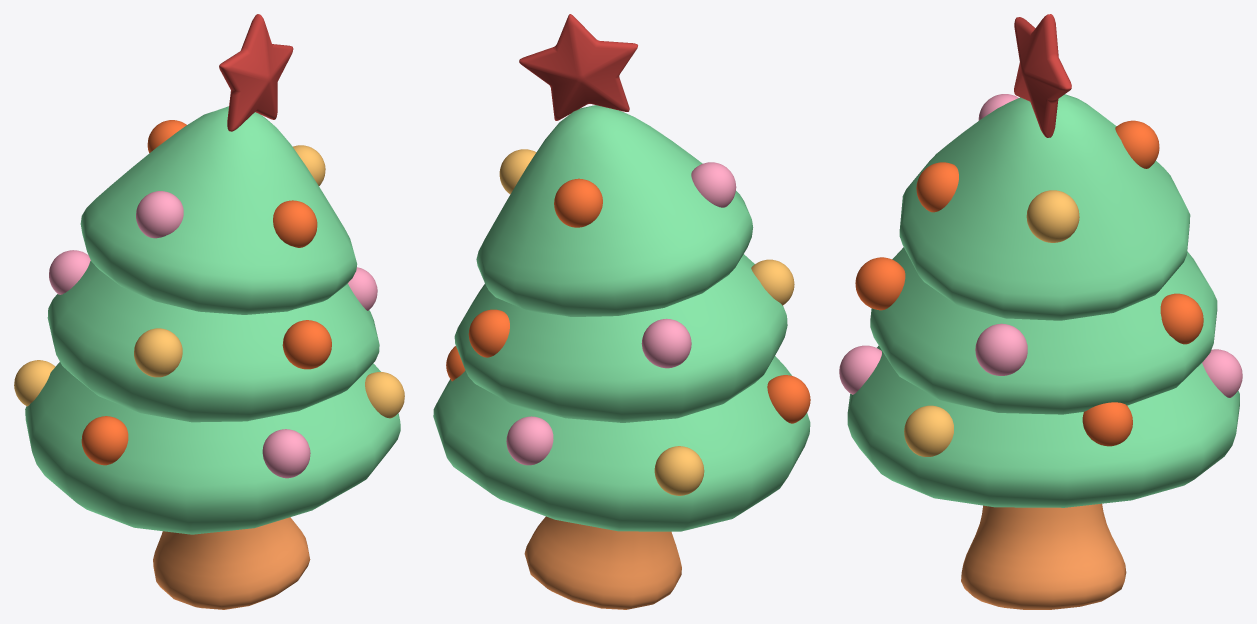
The model's file is tree_2.glb.
3 renders of one model, left to right at view 1: azimuth 30°, elevation 25°; view 2: azimuth 150°, elevation 25°; view 3: azimuth 270°, elevation 25°, orthographic. The views are drawn at different scales.
Parts seen in each view (by area): view 1: Cube, Cube.002, Cube.001, Cube.003, Circle, Sphere.015, Sphere.006, Sphere.008, Sphere.007, Sphere, Sphere.013, Sphere.014 (+5 smaller); view 2: Cube, Cube.002, Cube.001, Cube.003, Circle, Sphere.005, Sphere.004, Sphere.001, Sphere.012, Sphere.007, Sphere.003, Sphere (+2 smaller); view 3: Cube, Cube.002, Cube.001, Cube.003, Circle, Sphere.002, Sphere.009, Sphere.015, Sphere.014, Sphere.010, Sphere.003, Sphere.013 (+3 smaller).
Boxes of the visible parts, x1=… form: Cube: x1=80, y1=106, x2=357, y2=314; Cube.002: x1=25, y1=362, x2=400, y2=534; Cube.001: x1=47, y1=261, x2=379, y2=422; Cube.003: x1=153, y1=517, x2=310, y2=609; Circle: x1=219, y1=14, x2=293, y2=131; Sphere.015: x1=282, y1=320, x2=331, y2=369; Sphere.006: x1=134, y1=328, x2=182, y2=377; Sphere.008: x1=262, y1=429, x2=310, y2=478; Sphere.007: x1=81, y1=416, x2=128, y2=465; Sphere: x1=136, y1=191, x2=183, y2=238; Sphere.013: x1=273, y1=200, x2=317, y2=247; Sphere.014: x1=365, y1=372, x2=404, y2=418; Cube: x1=476, y1=105, x2=753, y2=316; Cube.002: x1=433, y1=356, x2=810, y2=531; Cube.001: x1=454, y1=254, x2=787, y2=422; Cube.003: x1=524, y1=516, x2=681, y2=609; Circle: x1=519, y1=14, x2=637, y2=120; Sphere.005: x1=654, y1=446, x2=704, y2=495; Sphere.004: x1=641, y1=318, x2=691, y2=368; Sphere.001: x1=554, y1=178, x2=602, y2=227; Sphere.012: x1=506, y1=416, x2=553, y2=465; Sphere.007: x1=767, y1=375, x2=810, y2=423; Sphere.003: x1=468, y1=309, x2=509, y2=357; Sphere: x1=691, y1=162, x2=736, y2=207; Cube: x1=899, y1=94, x2=1190, y2=320; Cube.002: x1=847, y1=345, x2=1239, y2=507; Cube.001: x1=870, y1=247, x2=1217, y2=414; Cube.003: x1=961, y1=503, x2=1126, y2=609; Circle: x1=1014, y1=14, x2=1071, y2=137; Sphere.002: x1=1026, y1=190, x2=1079, y2=242; Sphere.009: x1=975, y1=323, x2=1027, y2=375; Sphere.015: x1=855, y1=257, x2=905, y2=310; Sphere.014: x1=904, y1=405, x2=953, y2=456; Sphere.010: x1=1082, y1=402, x2=1132, y2=446; Sphere.003: x1=1160, y1=293, x2=1203, y2=344; Sphere.013: x1=916, y1=162, x2=958, y2=212.
Size of the model in its own units: 5.63 by 9.55 by 5.78.
